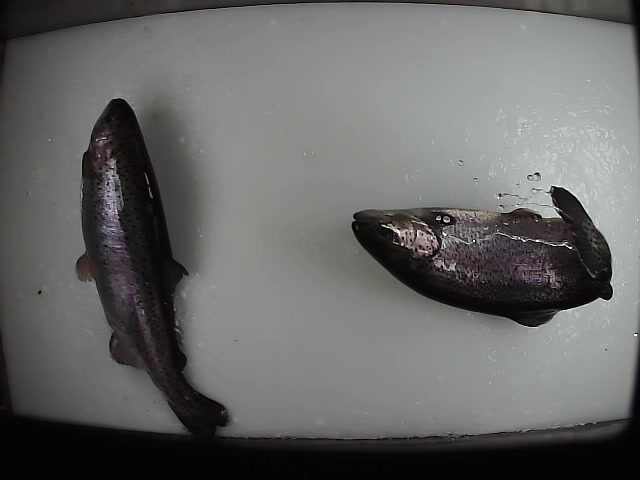fish: (73, 94, 231, 445), (348, 184, 619, 329)
